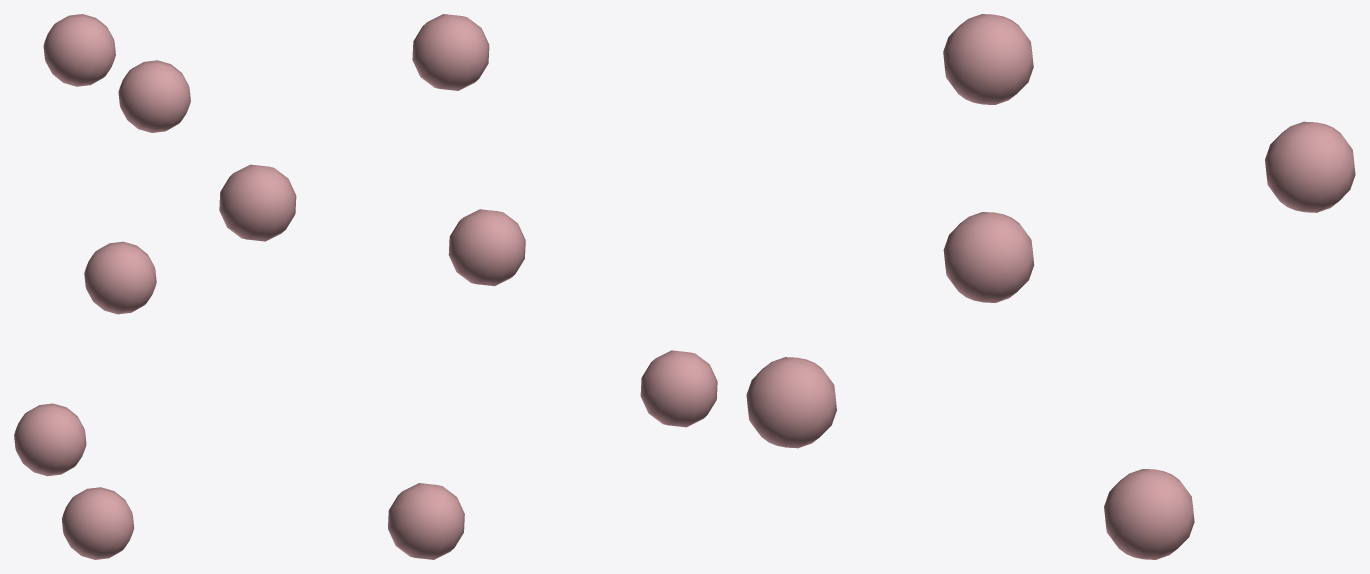
3 renders of one model, left to right at view 1: azimuth 30°, elevation 25°; view 2: azimuth 150°, elevation 25°; view 3: azimuth 270°, elevation 25°, orthographic. The views are drawn at different scales.
Visible parts, largest first — view 1: ZA_cbc8df5a940a0ee3; view 2: ZA_cbc8df5a940a0ee3; view 3: ZA_cbc8df5a940a0ee3.
Boxes of the visible parts, x1,y1,x2,y2 form: ZA_cbc8df5a940a0ee3: (14,14,190,559); ZA_cbc8df5a940a0ee3: (219,14,717,559); ZA_cbc8df5a940a0ee3: (746,14,1355,559).
Bounding box in the file's own units: 0.0103 × 0.0175 × 0.0172.
